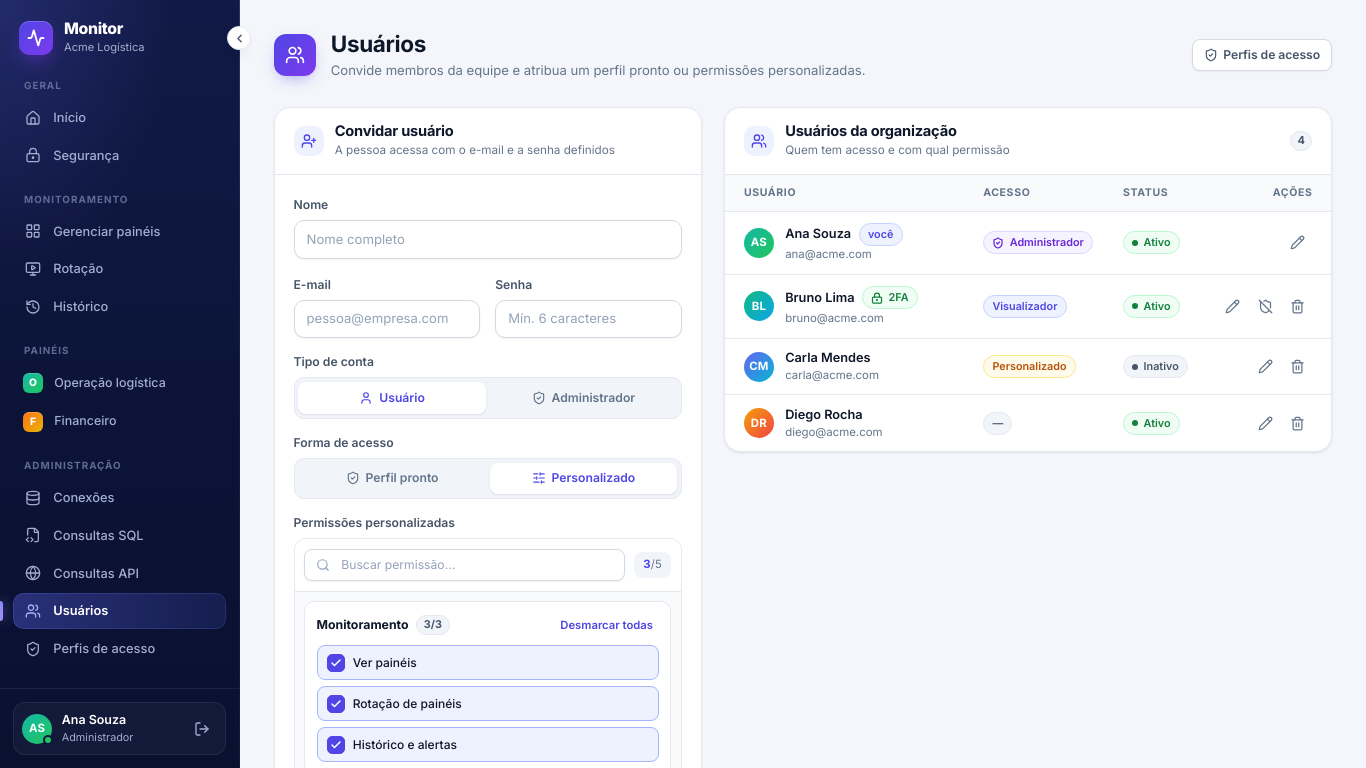
Usuários › convida usuário com perfil pronto
The width and height of the screenshot is (1366, 768).
Type "Eva" into the field labelled "Nome" at point(488, 239), box top-left (294, 220), bottom-right (682, 258)
Type "eva@acme.com" into the field labelled "E-mail" at point(387, 319), box top-left (294, 300), bottom-right (480, 338)
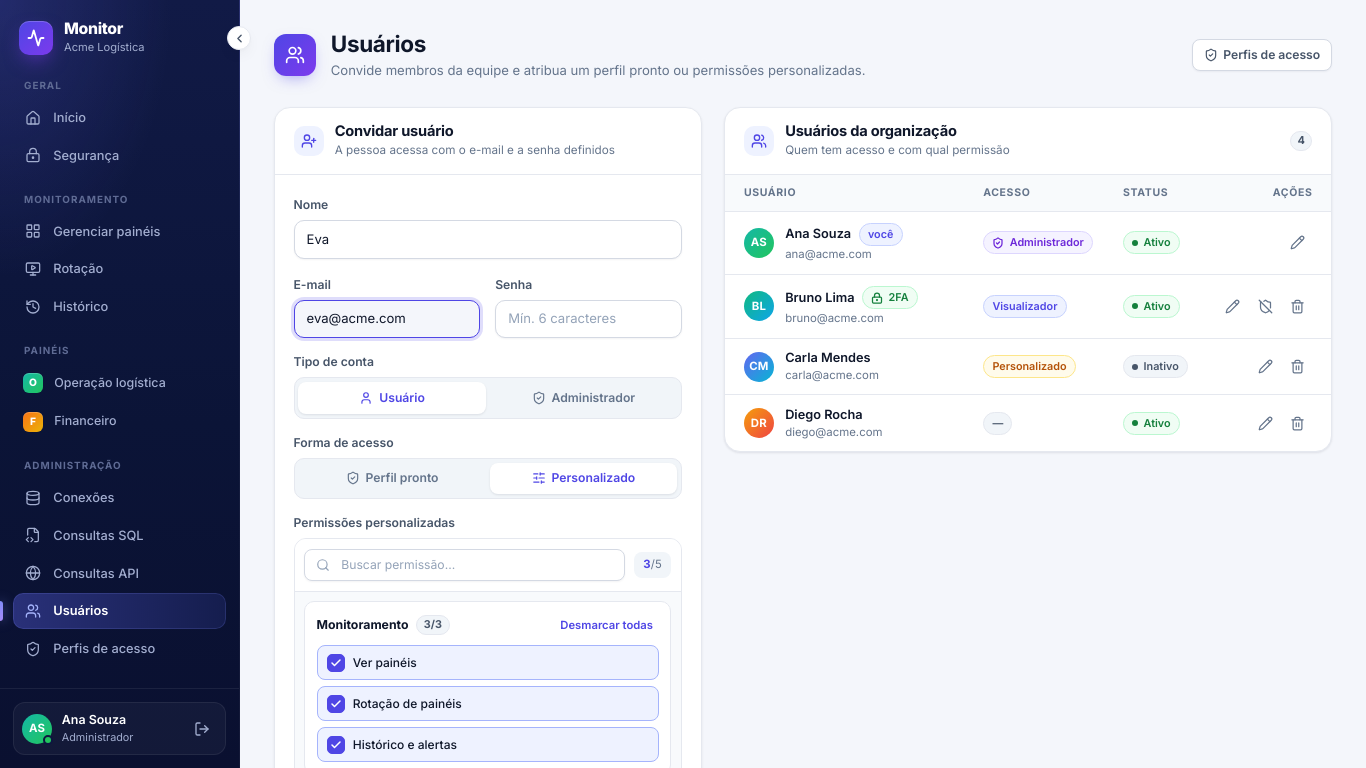
Type "segredo1" into the password field labelled "Senha" at point(589, 319), box top-left (495, 300), bottom-right (682, 338)
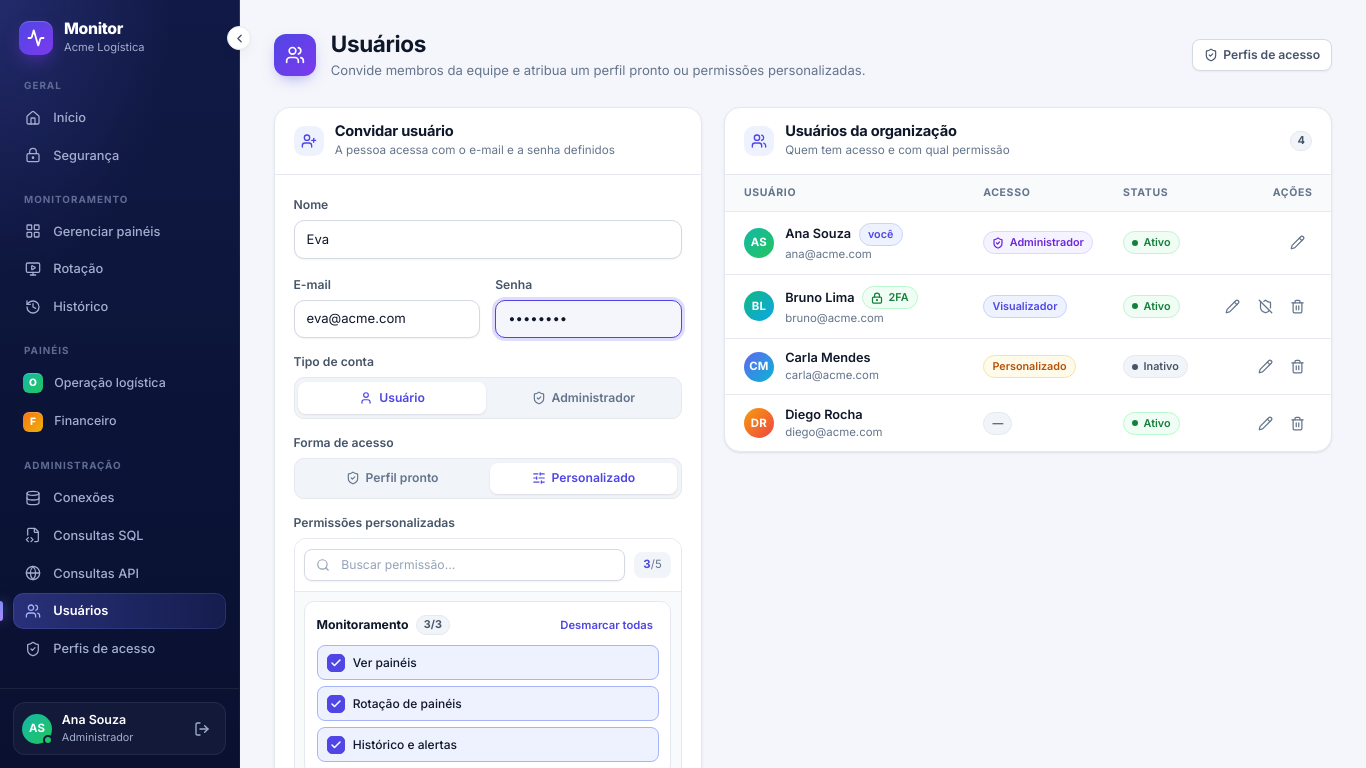
Click the radio button labelled "Perfil pronto" at point(392, 478), box top-left (298, 463), bottom-right (486, 494)
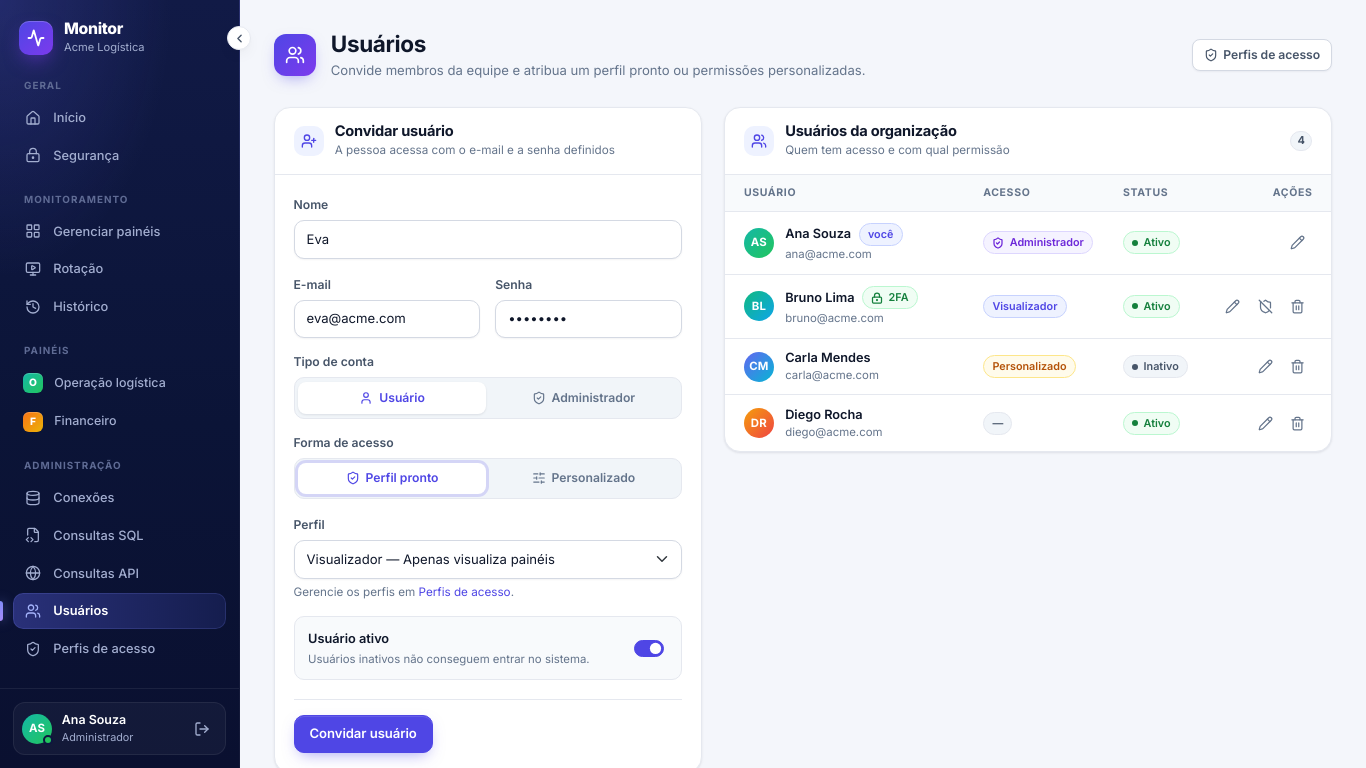
expect the dropdown labelled "Perfil" shows "Visualizador — Apenas visualiza painéis": met
Select "Analista" in the dropdown labelled "Perfil" at point(488, 560), box top-left (294, 540), bottom-right (682, 579)
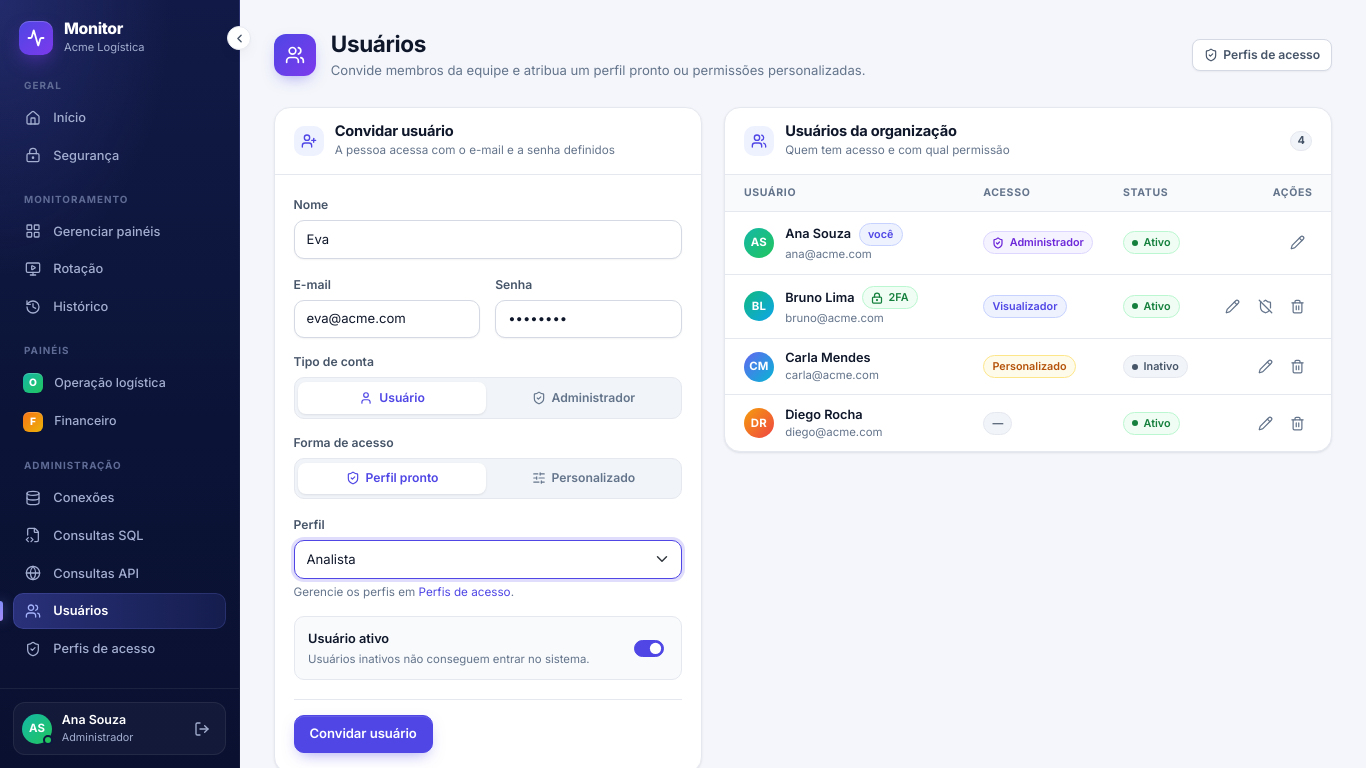
Click the switch labelled "Usuário ativo" at point(649, 648), box top-left (634, 640), bottom-right (664, 657)
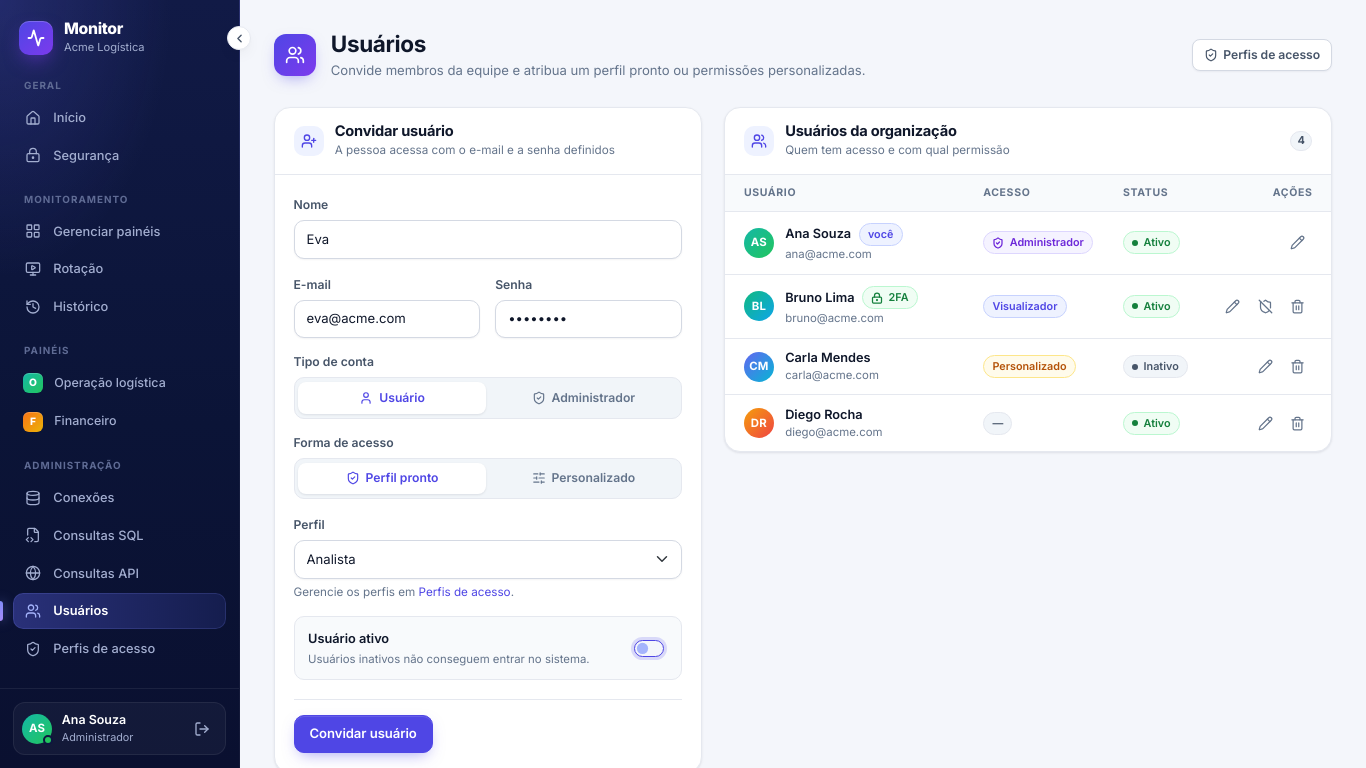
Click the button "Convidar usuário" at point(363, 734), box top-left (294, 715), bottom-right (433, 753)
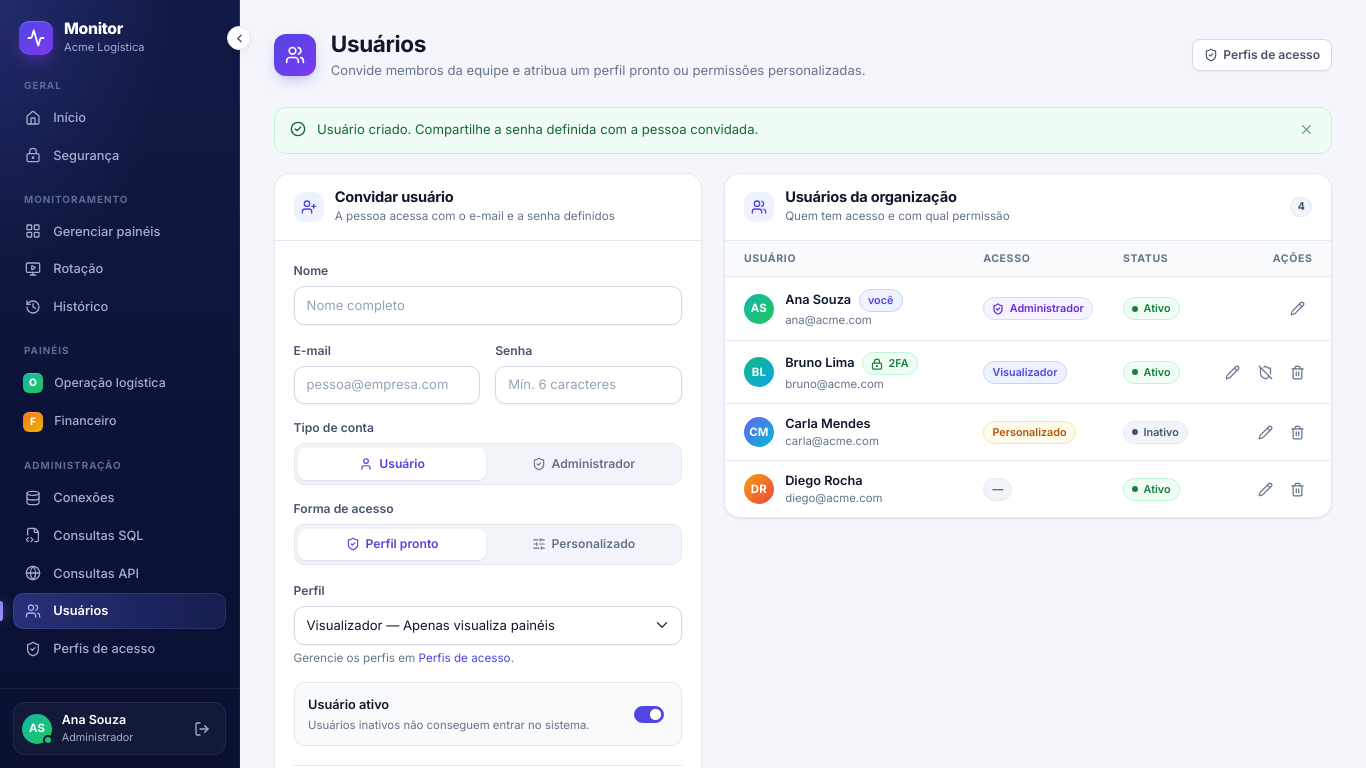
expect the text "Usuário criado" is shown: met, box top-left (317, 121), bottom-right (758, 137)
